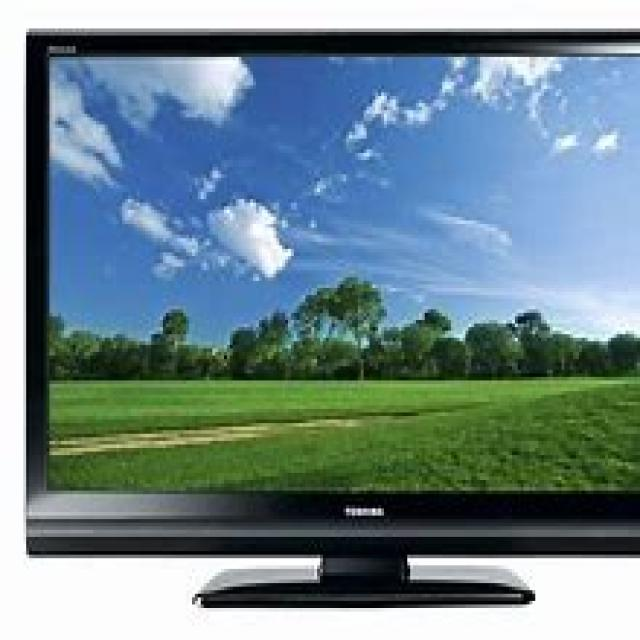tv: (23, 25, 637, 608)
